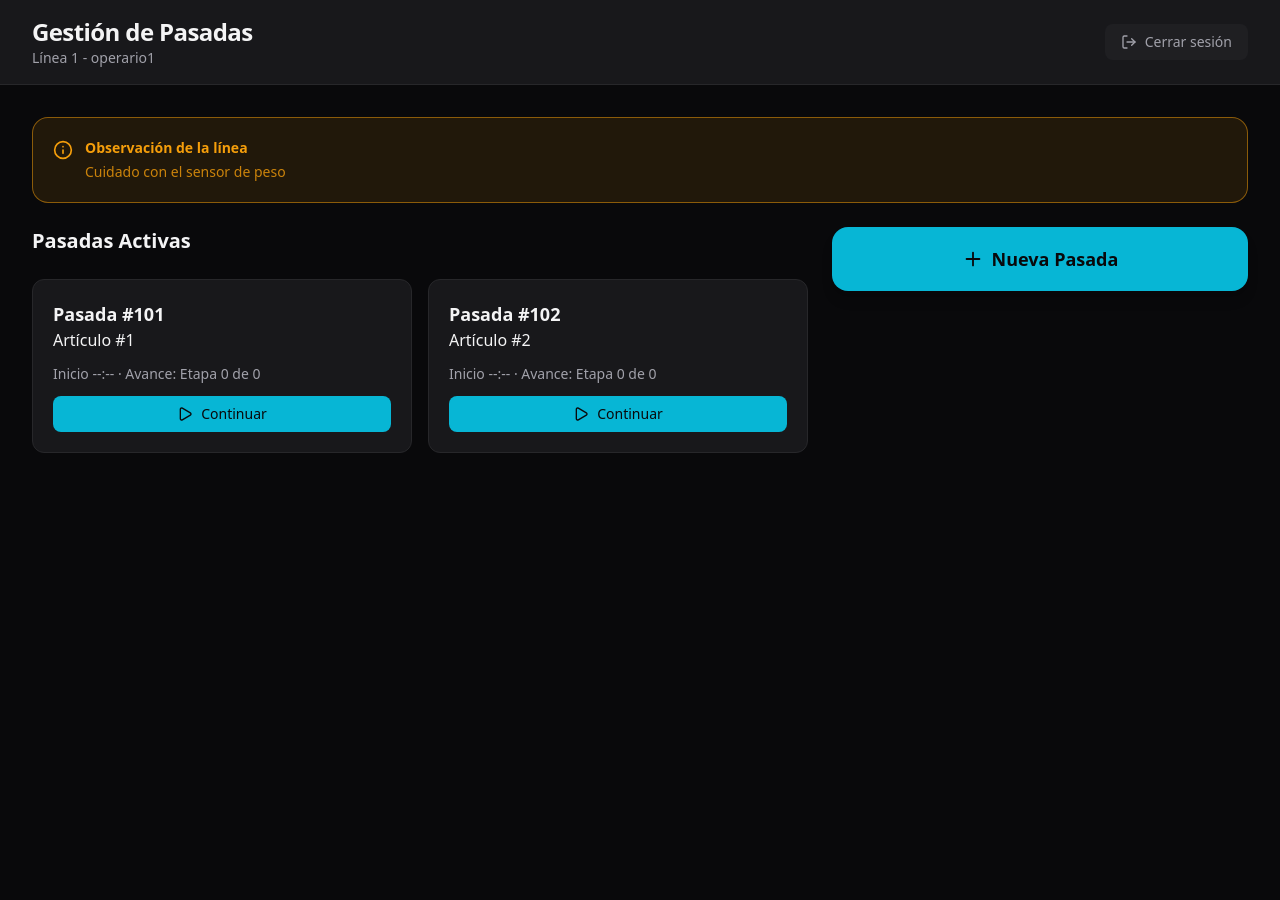
Test: GestionPasadasPage › observación de la línea › propone agregar la observación de la línea a la observación de la pasada en el modal
Click the button "Nueva Pasada": (1040, 259) x1=832 y1=227 x2=1248 y2=291
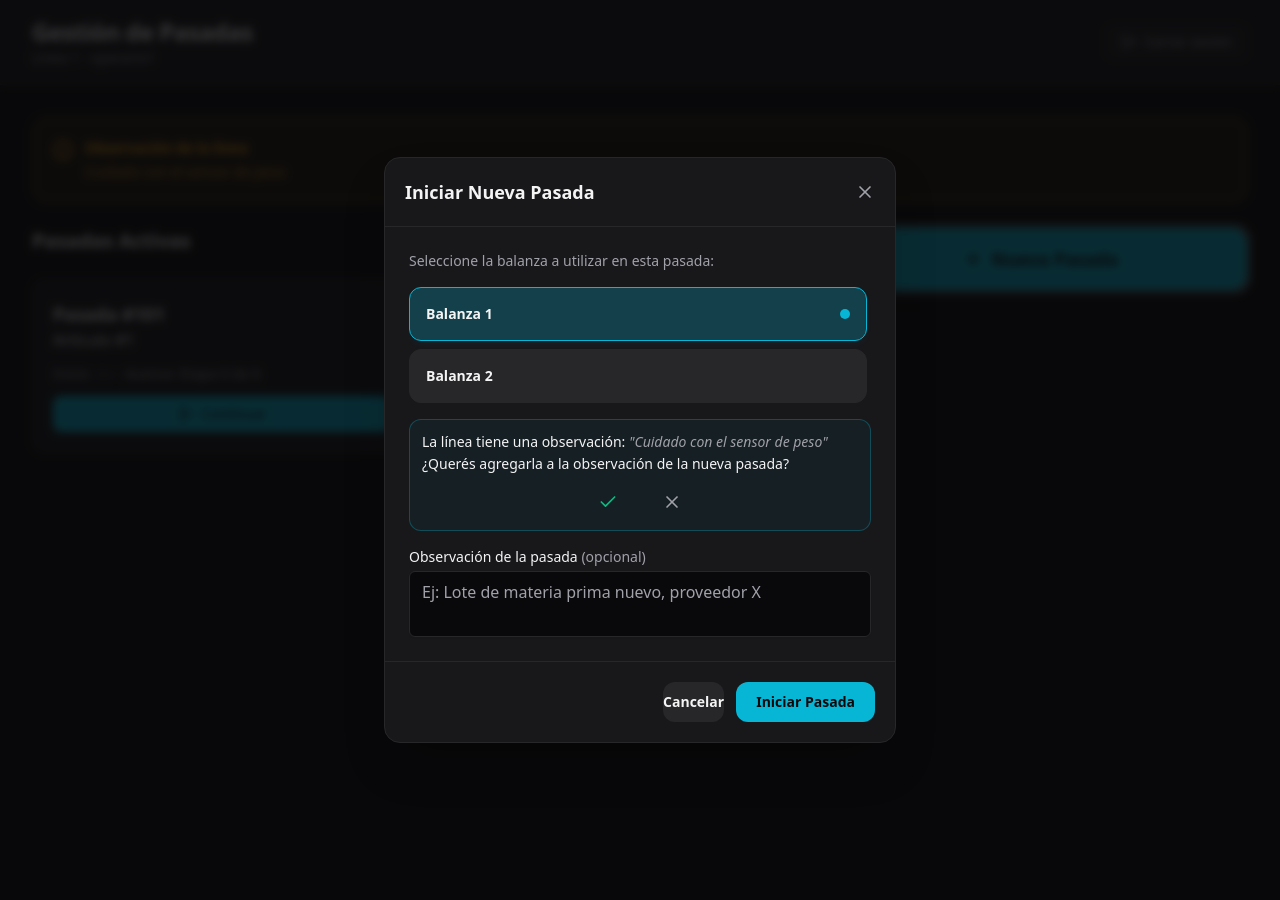
Expected: the heading "Iniciar Nueva Pasada" is shown, x1=405 y1=178 x2=595 y2=206
Expected: the text "¿Querés agregarla a la observación de la nueva pasada?" is shown, x1=422 y1=454 x2=789 y2=473
Click the button named "Agregar observación de la línea": (608, 502) x1=592 y1=486 x2=624 y2=518
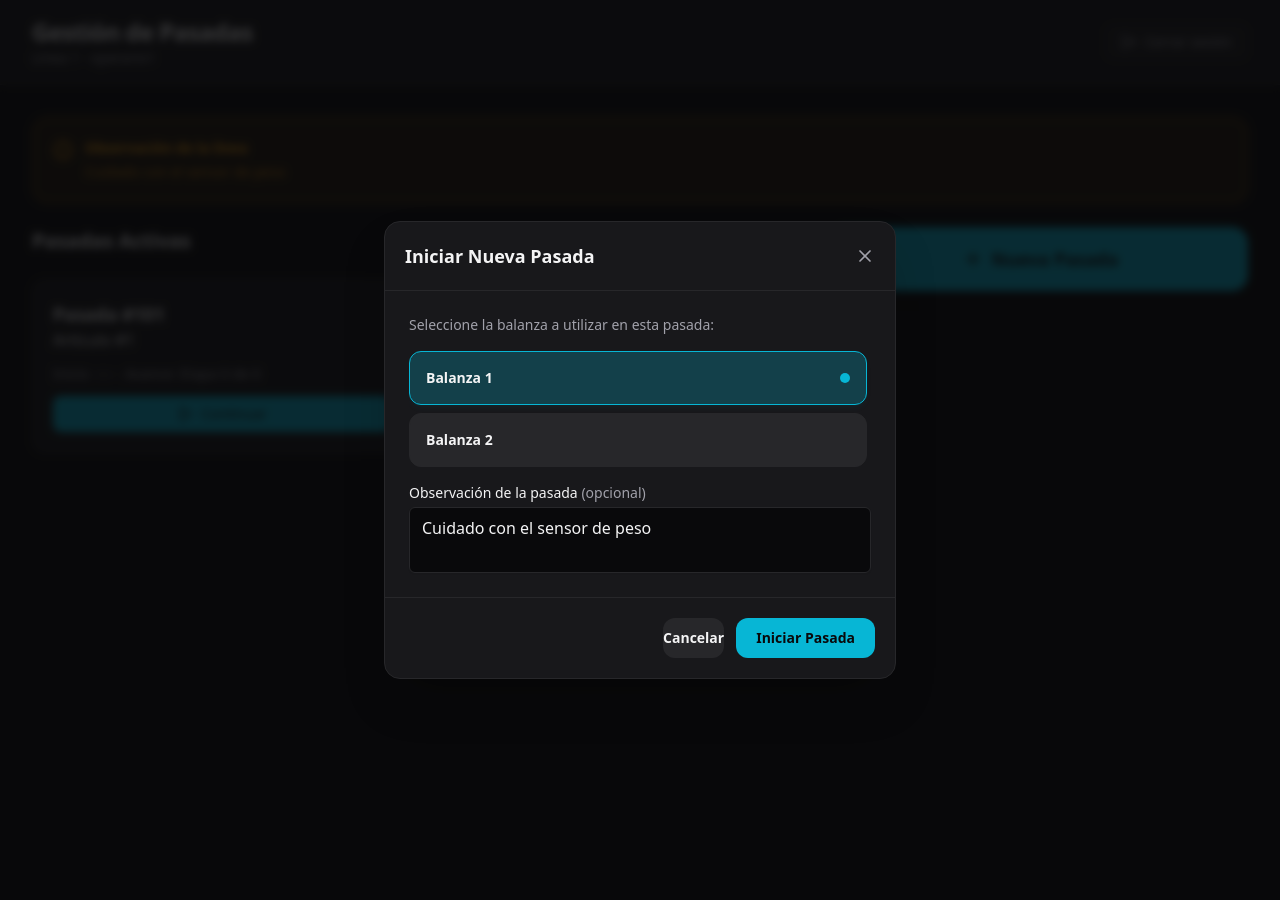
Expected: the text box labelled "Observación de la pasada (opcional)" holds "Cuidado con el sensor de peso", x1=409 y1=507 x2=871 y2=573
Expected: the text "¿Querés agregarla a la observación de la nueva pasada?" is gone
